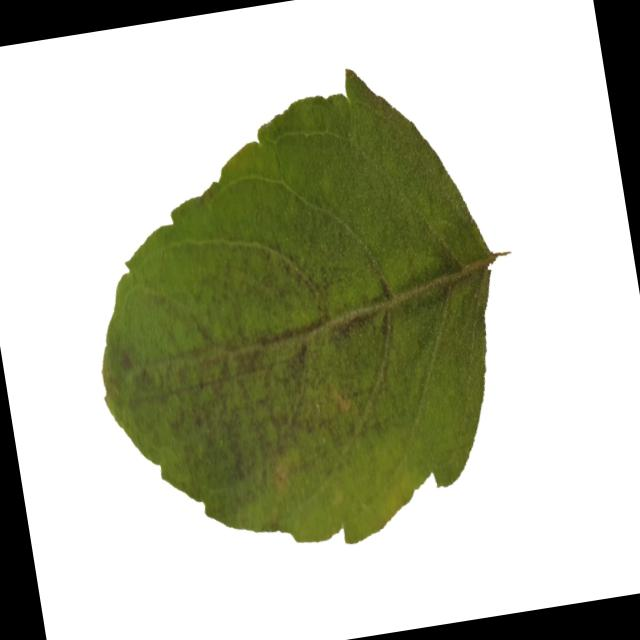tulsi: (64, 44, 550, 579)
